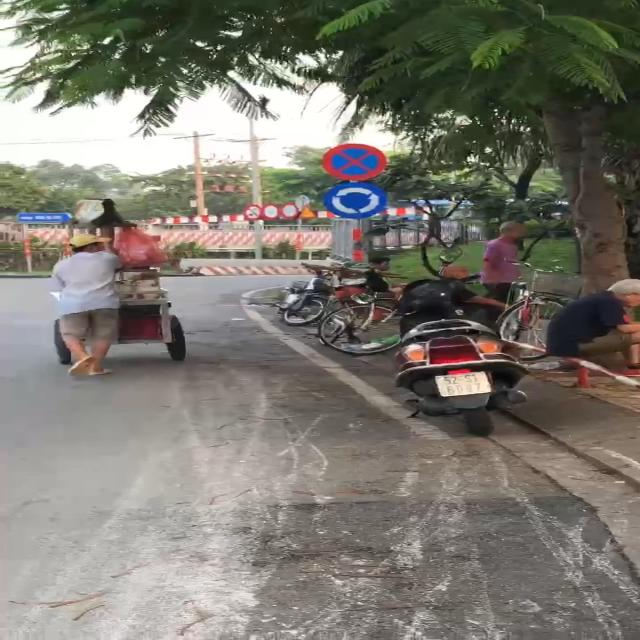Bien bao cam dung xe va do xe: (316, 142, 392, 180)
Bien bao noi giao nhau chay theo vong xuyen: (322, 181, 394, 220)
